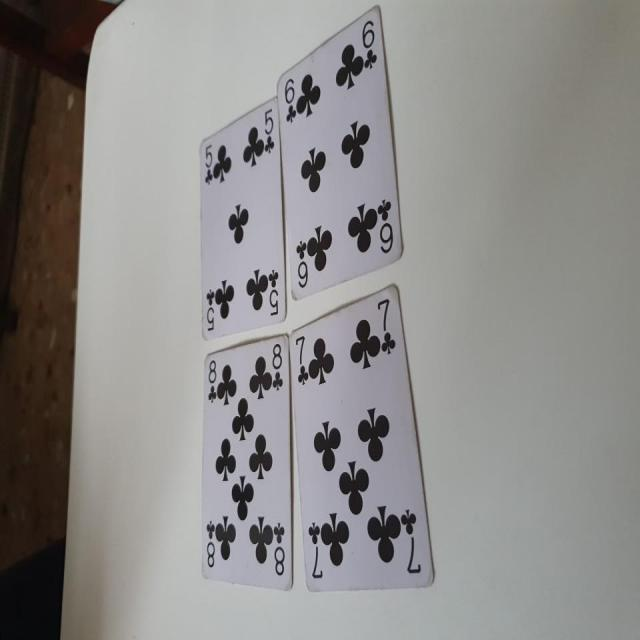5 Trefoils: (199, 94, 287, 337)
6 Trefoils: (278, 1, 403, 307)
7 Trefoils: (289, 282, 436, 589)
8 Trefoils: (198, 336, 293, 588)
